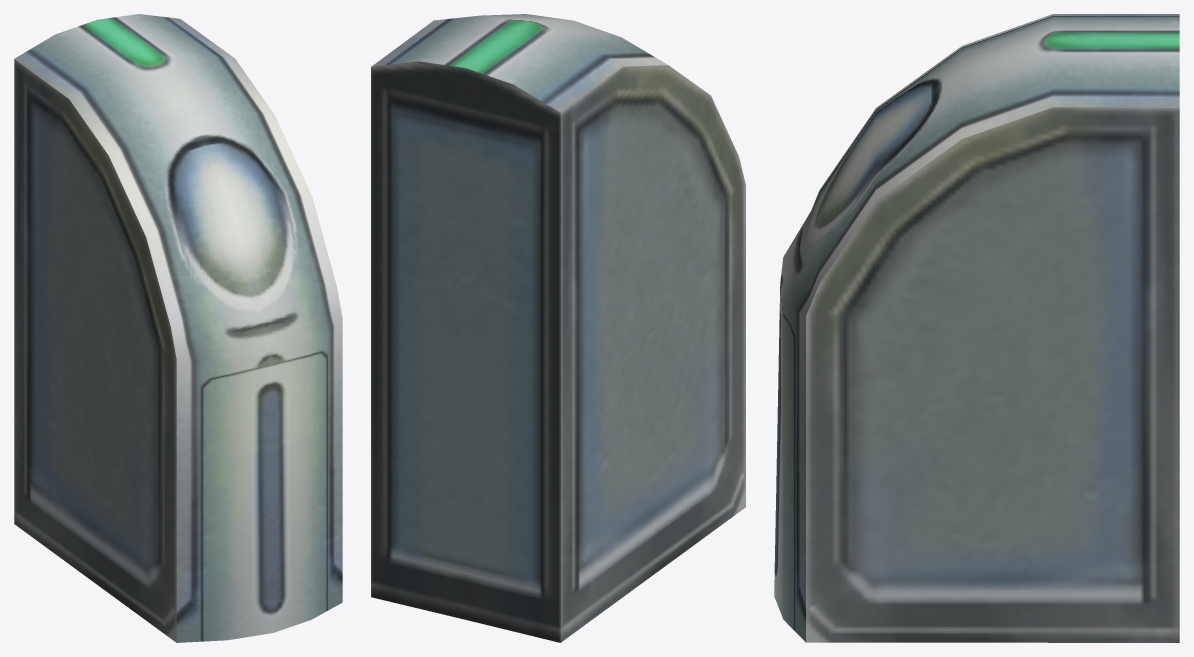
Rendered from PK_model_brake.FBX.
The picture shows the model from 3 angles, left to right: view 1: azimuth 30°, elevation 25°; view 2: azimuth 150°, elevation 25°; view 3: azimuth 270°, elevation 25°; orthographic projection. The views are drawn at different scales.
Parts seen in each view (by area): view 1: PK_model_brake; view 2: PK_model_brake; view 3: PK_model_brake.
Boxes of the visible parts, x1,y1,x2,y2 form: PK_model_brake: (14,14,342,642); PK_model_brake: (371,14,745,642); PK_model_brake: (774,14,1179,642).
Bounding box in the file's own units: 41.71 × 116 × 76.67.
